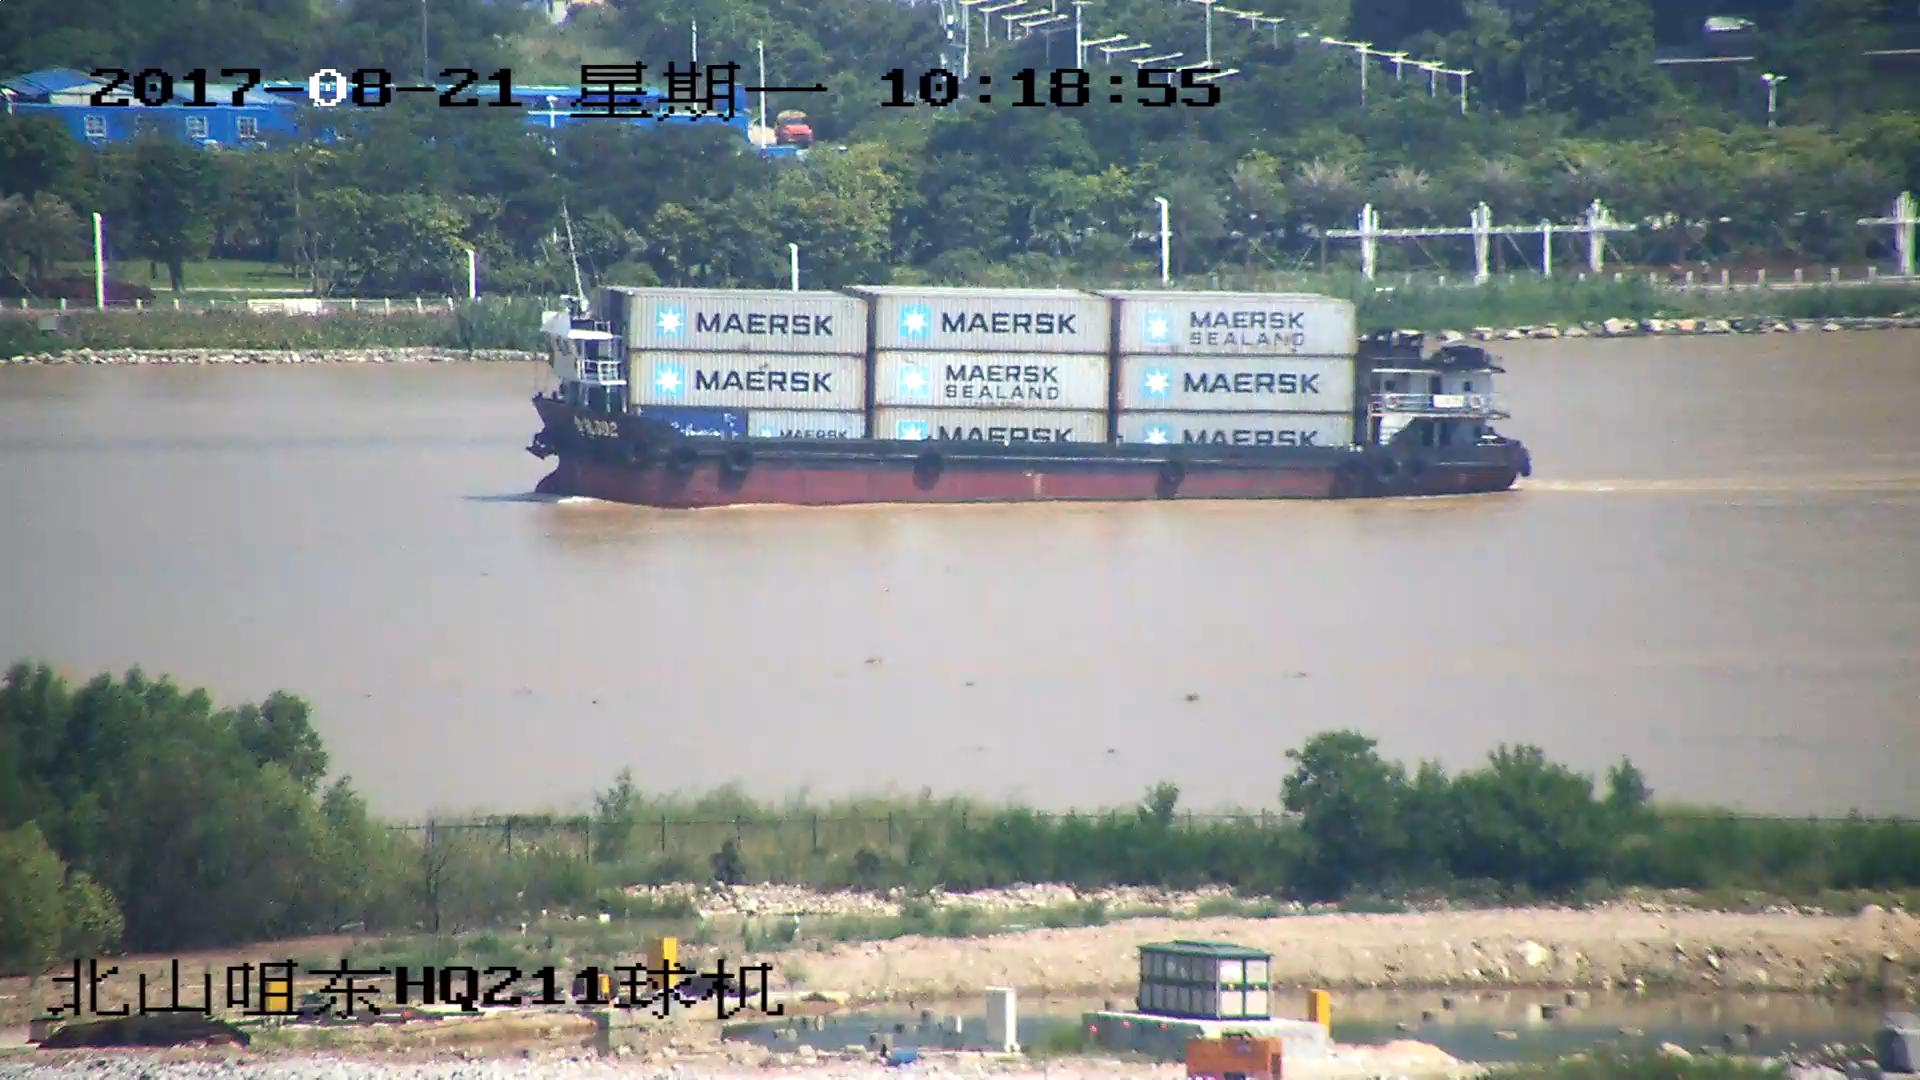container ship: (528, 201, 1532, 505)
